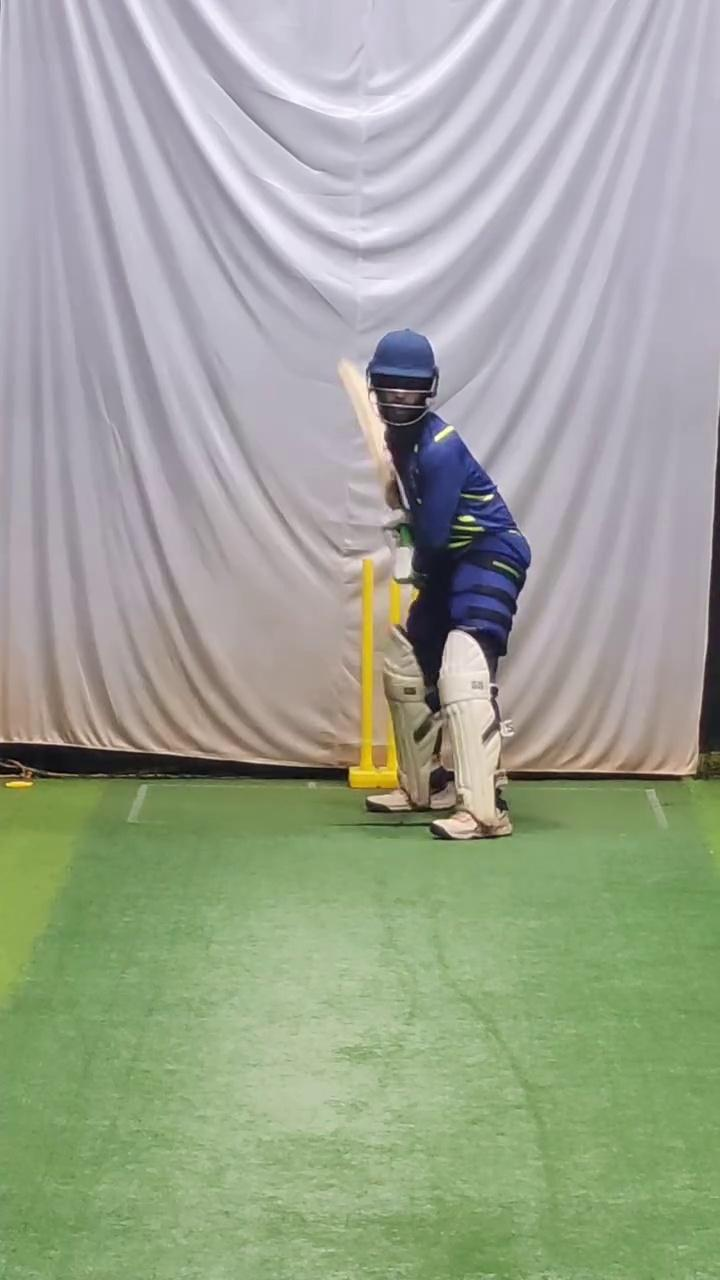bat: (336, 354, 404, 514)
